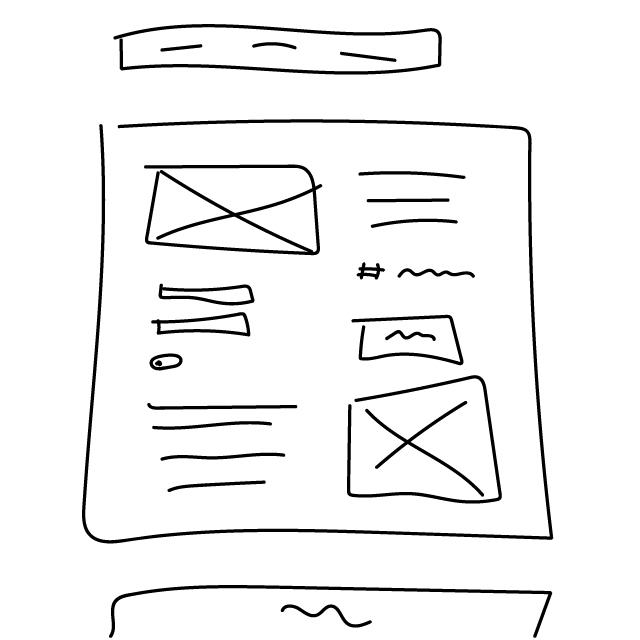button: (350, 309, 468, 369)
checkbox: (147, 352, 188, 376)
container: (77, 110, 577, 559)
footer: (100, 577, 559, 640)
frame: (341, 370, 507, 511), (142, 161, 326, 260)
heading: (355, 257, 481, 289)
input: (151, 312, 256, 340), (155, 280, 259, 307)
nav: (111, 17, 449, 81)
text: (143, 398, 302, 500), (356, 159, 472, 237)
